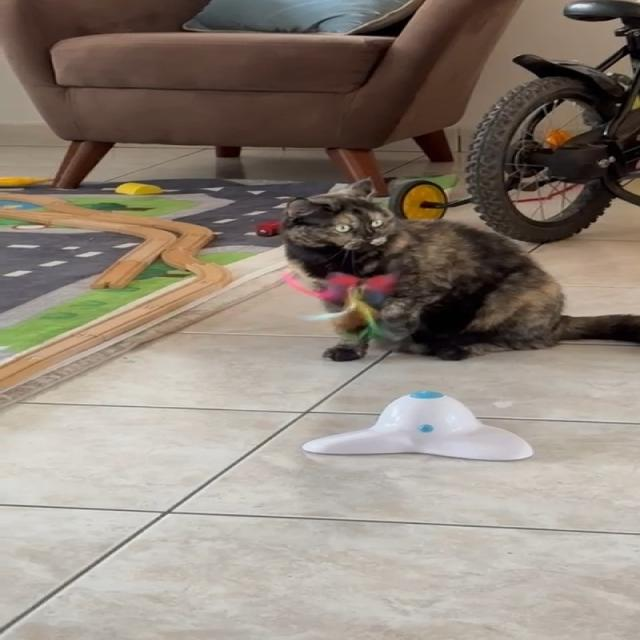authorized: (277, 176, 639, 362)
